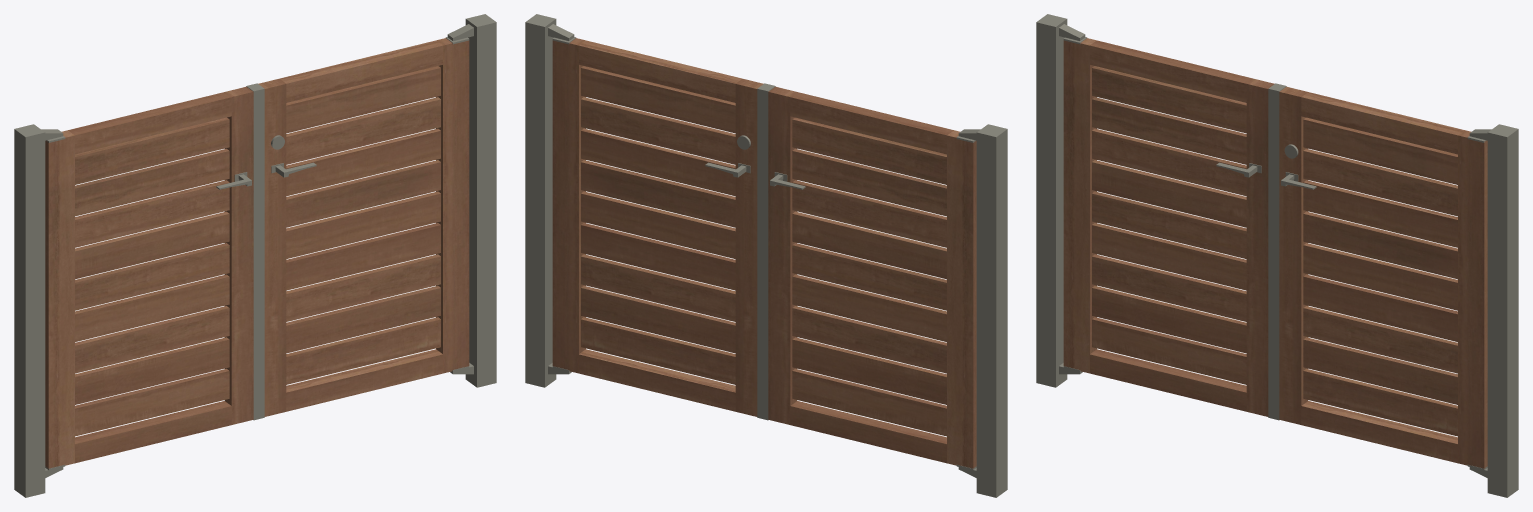
File: awmonpi2-102yoko_h1200-w800-800_jara.fbx
3 views of the same model, side by side, from view 1: azimuth 30°, elevation 25°; view 2: azimuth 150°, elevation 25°; view 3: azimuth 330°, elevation 25° (orthographic).
Parts seen in each view (by area): view 1: awmonpi2-102yoko_h1200-w800-800_chacoalgray.004; view 2: awmonpi2-102yoko_h1200-w800-800_chacoalgray.004; view 3: awmonpi2-102yoko_h1200-w800-800_chacoalgray.004.
Part boxes in pixels (x1=…): awmonpi2-102yoko_h1200-w800-800_chacoalgray.004: x1=14, y1=14, x2=496, y2=497; awmonpi2-102yoko_h1200-w800-800_chacoalgray.004: x1=525, y1=14, x2=1007, y2=497; awmonpi2-102yoko_h1200-w800-800_chacoalgray.004: x1=1036, y1=14, x2=1518, y2=497.
Size of the model in its own units: 180 by 132 by 16.7.
Materials: 2 (2 with a texture image).
